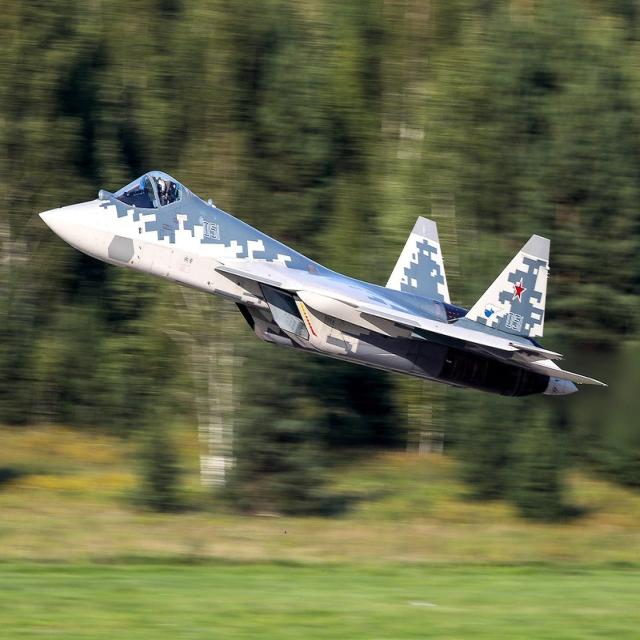MIL_Plane: (37, 172, 609, 398)
